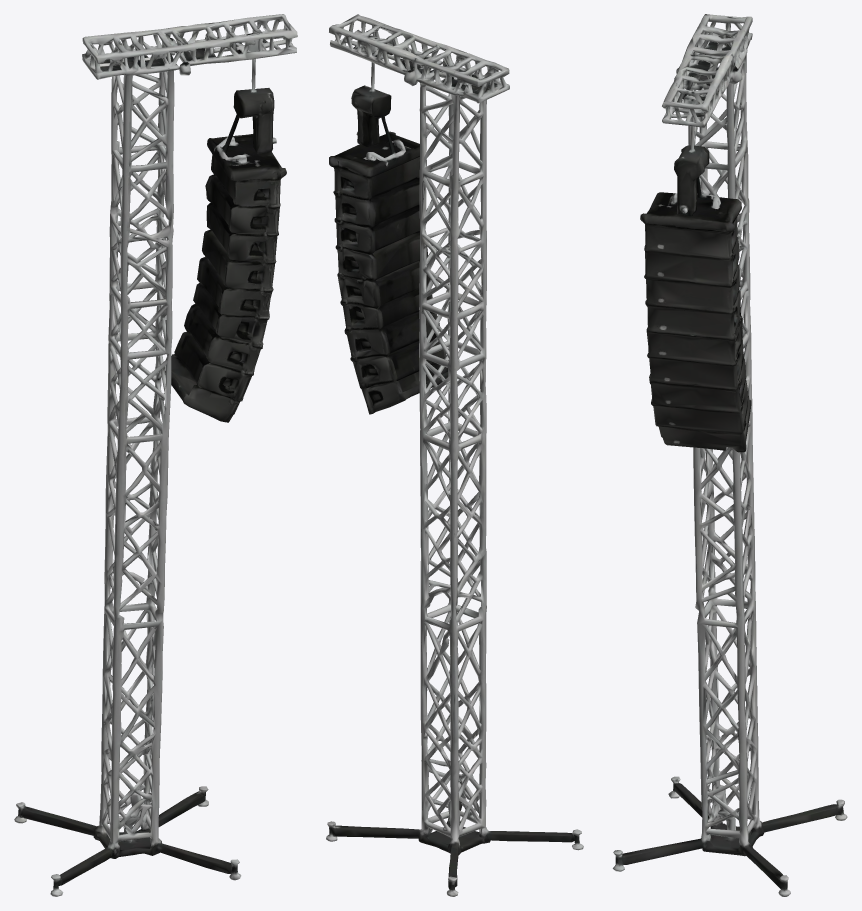
The model's file is tower.glb.
3 renders of one model, left to right at view 1: azimuth 30°, elevation 25°; view 2: azimuth 150°, elevation 25°; view 3: azimuth 270°, elevation 25°, orthographic. The views are drawn at different scales.
Parts seen in each view (by area): view 1: tripo_node_49ac7bdf-a7b7-4589-8d21-43632ff62238; view 2: tripo_node_49ac7bdf-a7b7-4589-8d21-43632ff62238; view 3: tripo_node_49ac7bdf-a7b7-4589-8d21-43632ff62238.
Part boxes in pixels (left/top/right/bottom): tripo_node_49ac7bdf-a7b7-4589-8d21-43632ff62238: left=14, top=14, right=297, bottom=896; tripo_node_49ac7bdf-a7b7-4589-8d21-43632ff62238: left=326, top=14, right=583, bottom=896; tripo_node_49ac7bdf-a7b7-4589-8d21-43632ff62238: left=612, top=14, right=847, bottom=896.
Bounding box in the file's own units: 0.32 × 0.9998 × 0.2621.
Materials: 1 (1 with a texture image).
